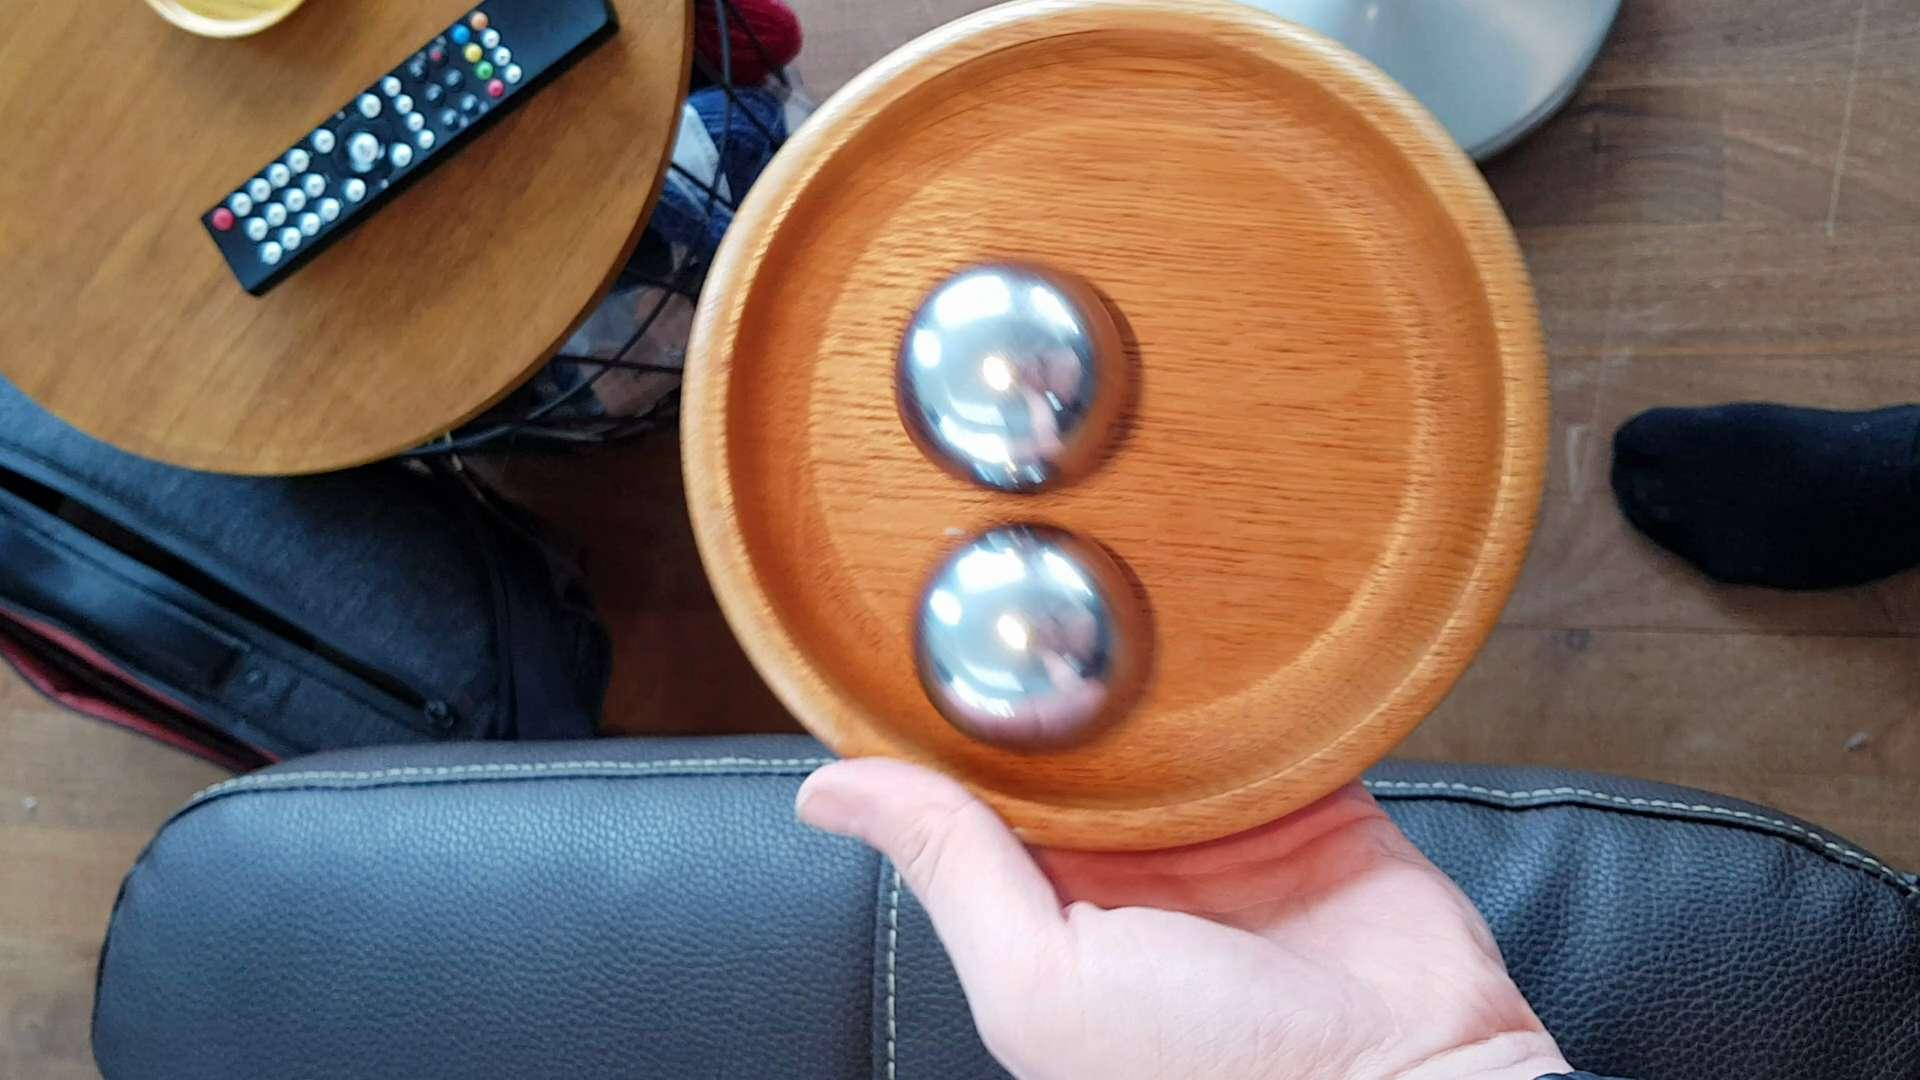sphere: (885, 247, 1150, 489), (905, 524, 1151, 740)
